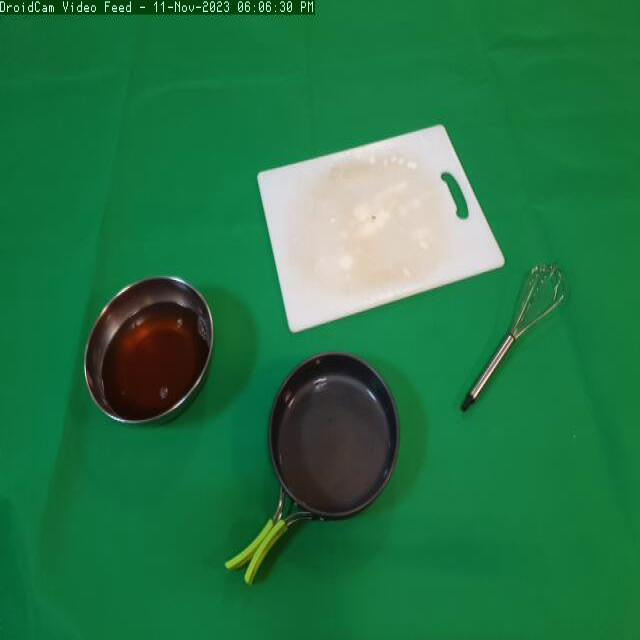cutting board: (253, 114, 518, 338)
fullbowl: (78, 268, 215, 434)
pan: (220, 342, 406, 598)
whisk: (456, 256, 578, 424)
